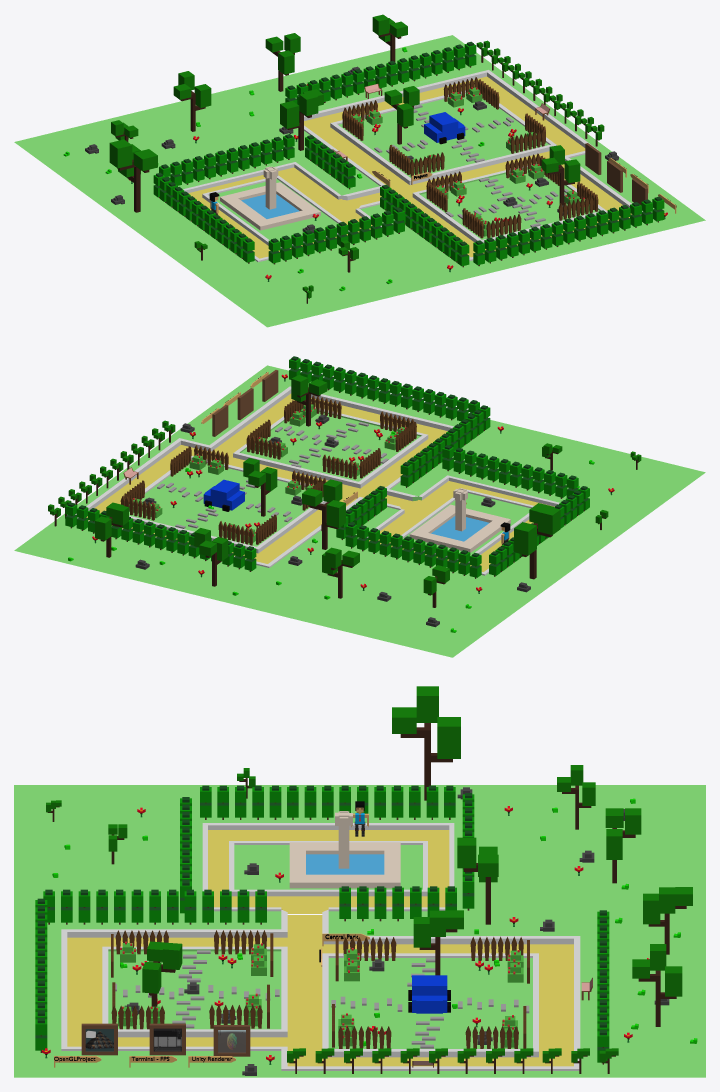
File: portfolio.glb
3 renders of one model, top to bottom at view 1: azimuth 30°, elevation 25°; view 2: azimuth 150°, elevation 25°; view 3: azimuth 270°, elevation 25°, orthographic. The views are drawn at different scales.
Parts seen in each view (by area): view 1: Ground, Tree.007, Proj1; view 2: Ground, Tree.007, Proj3, Proj2, Proj1; view 3: Ground, Tree.007, Proj2, Proj3, Proj1.
Boxes of the visible parts, x1,y1,x2,y2 form: Ground: (14,35,705,327); Tree.007: (63,14,667,303); Proj1: (585,143,626,177); Ground: (14,365,705,657); Tree.007: (48,356,641,632); Proj3: (250,370,278,401); Proj2: (223,388,253,419); Proj1: (201,405,228,436); Ground: (14,785,705,1077); Tree.007: (35,686,697,1075); Proj2: (129,1023,185,1067); Proj3: (54,1023,117,1067); Proj1: (188,1025,250,1067).
Bounding box in the file's own units: 290 × 46.49 × 288.
40 materials, 3 textured.
